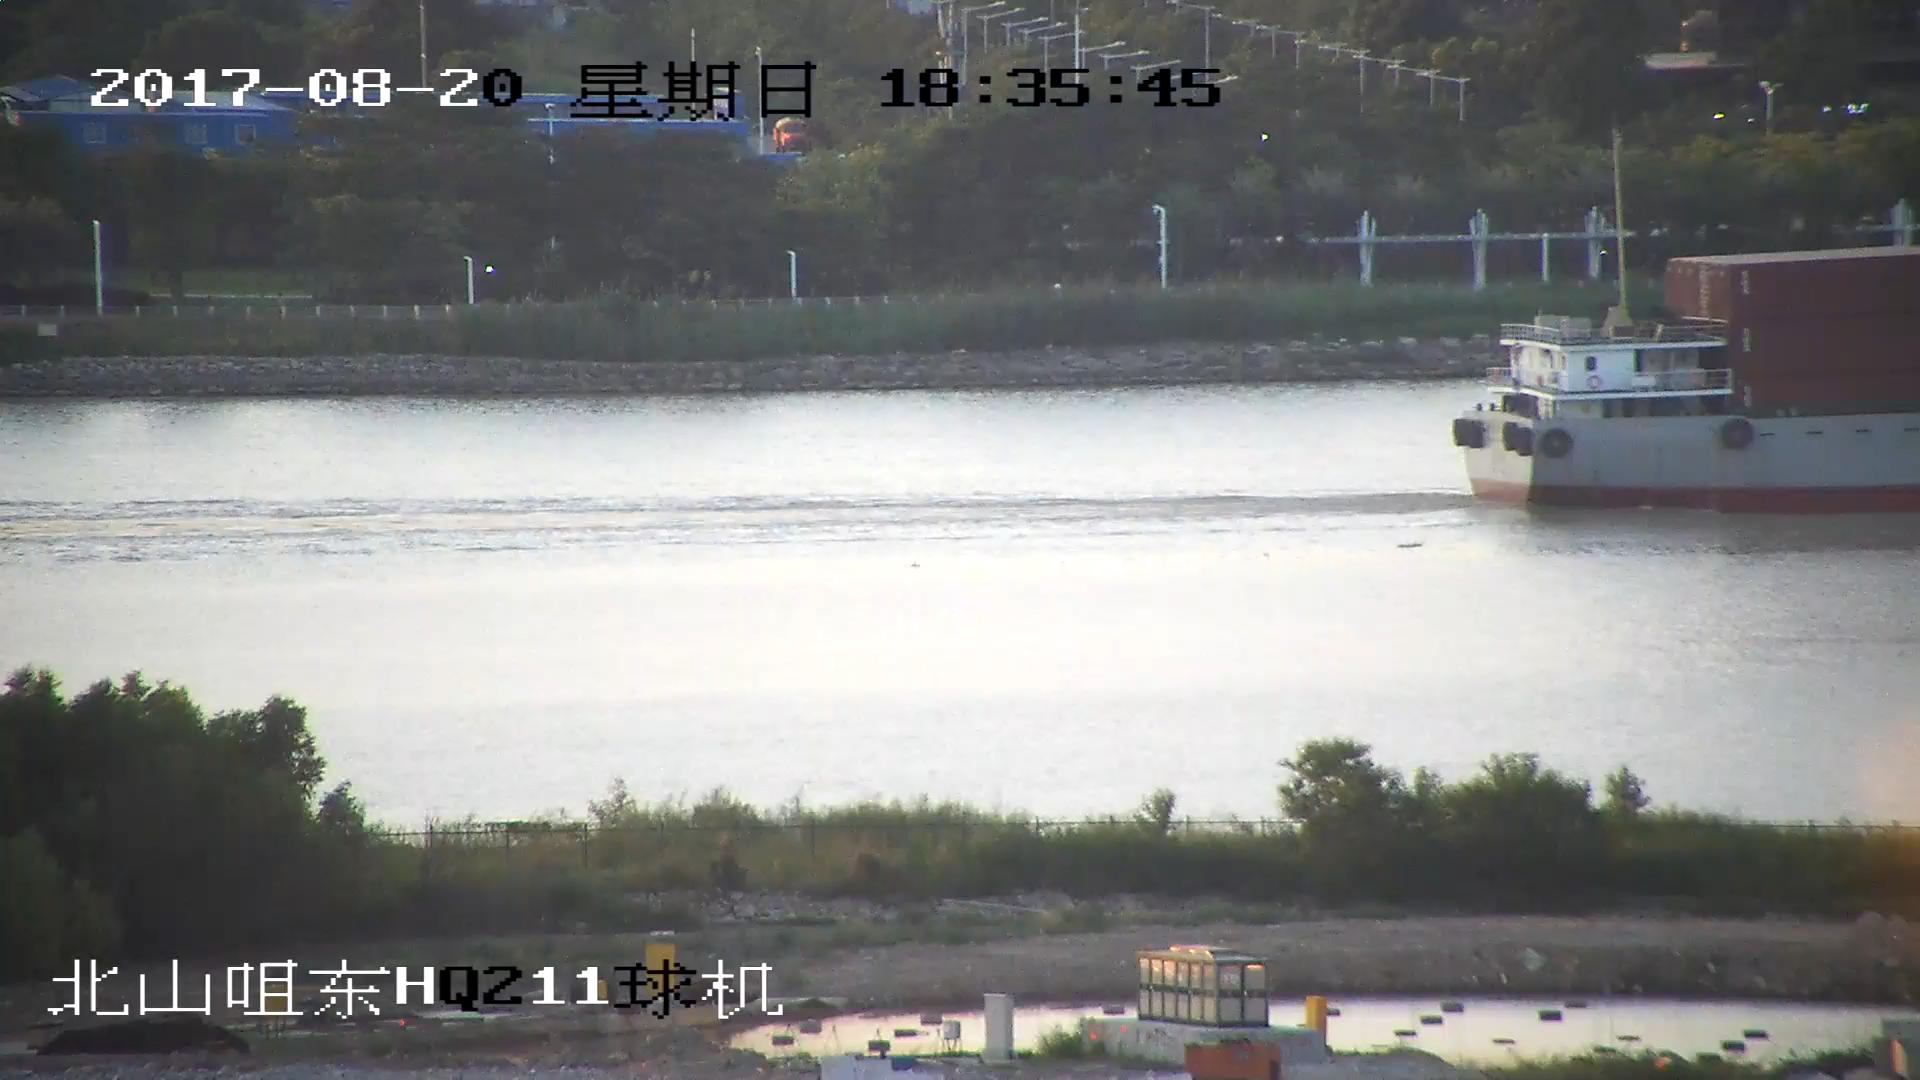container ship: (1446, 239, 1920, 513)
